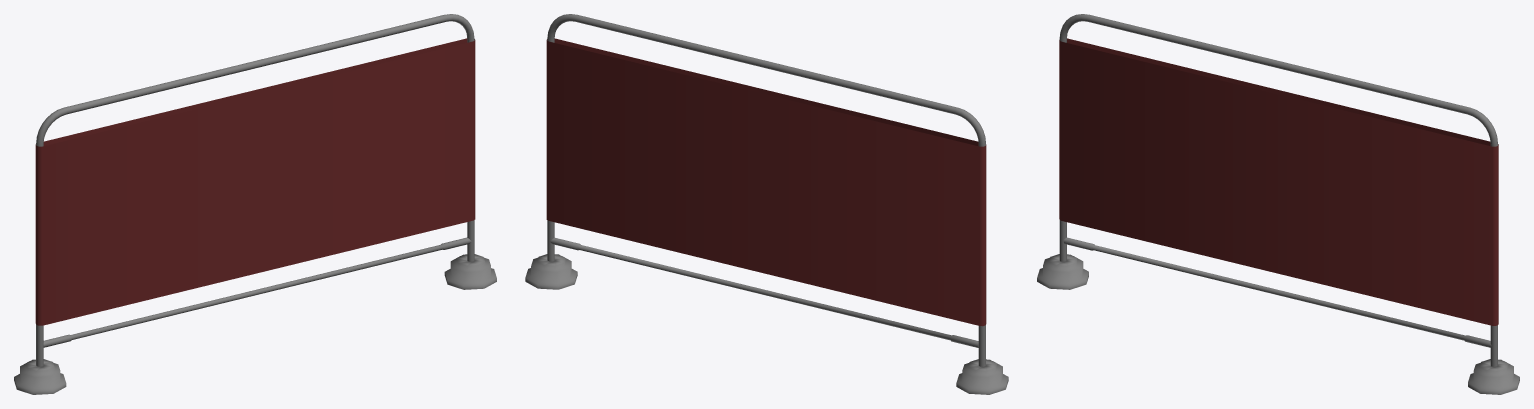
3 renders of one model, left to right at view 1: azimuth 30°, elevation 25°; view 2: azimuth 150°, elevation 25°; view 3: azimuth 330°, elevation 25°, orthographic.
Visible parts, largest first — view 1: 2_low005; view 2: 2_low005; view 3: 2_low005.
Boxes of the visible parts, left/top/right/bottom form: 2_low005: left=14, top=14, right=496, bottom=394; 2_low005: left=525, top=14, right=1008, bottom=394; 2_low005: left=1037, top=14, right=1519, bottom=394.
Size of the model in its own units: 2469 by 1335 by 241.
